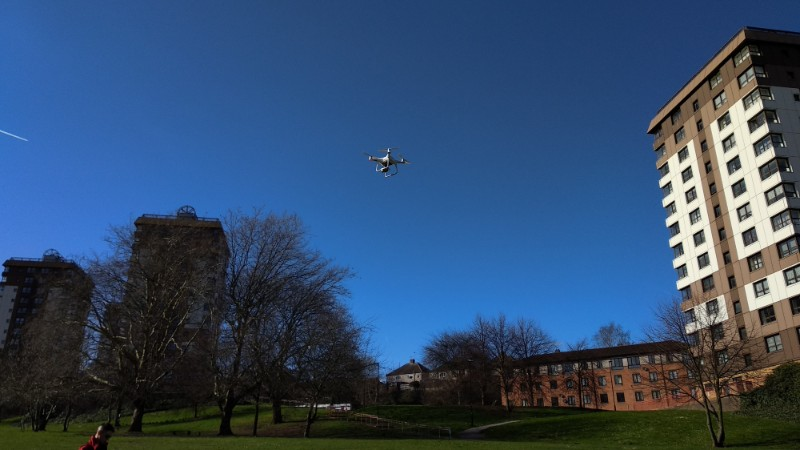drone: (362, 145, 413, 179)
